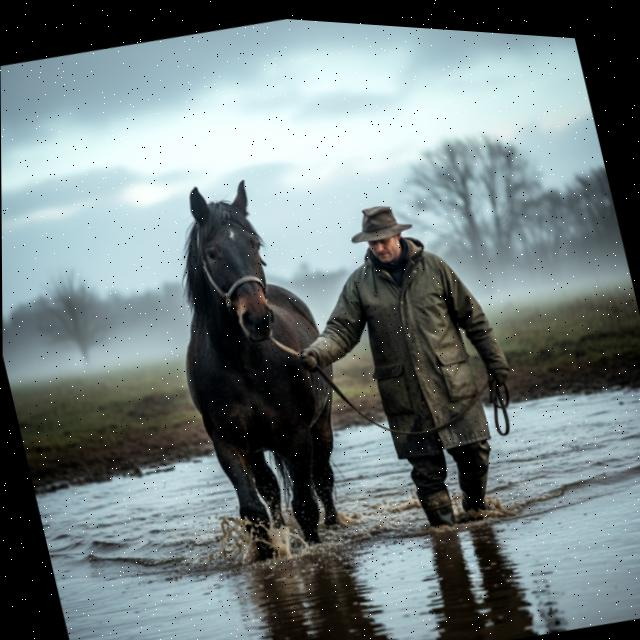civilian: (260, 150, 556, 578)
horse: (135, 143, 384, 587)
